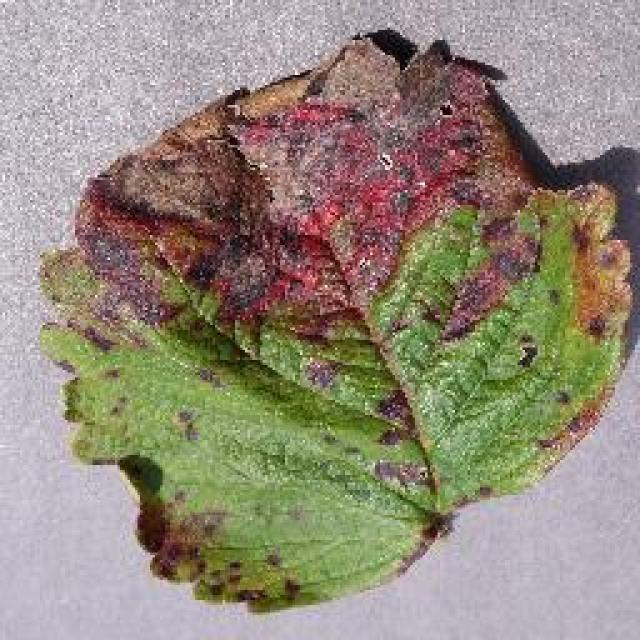Strawberry leaf scorch: (110, 80, 523, 358)
